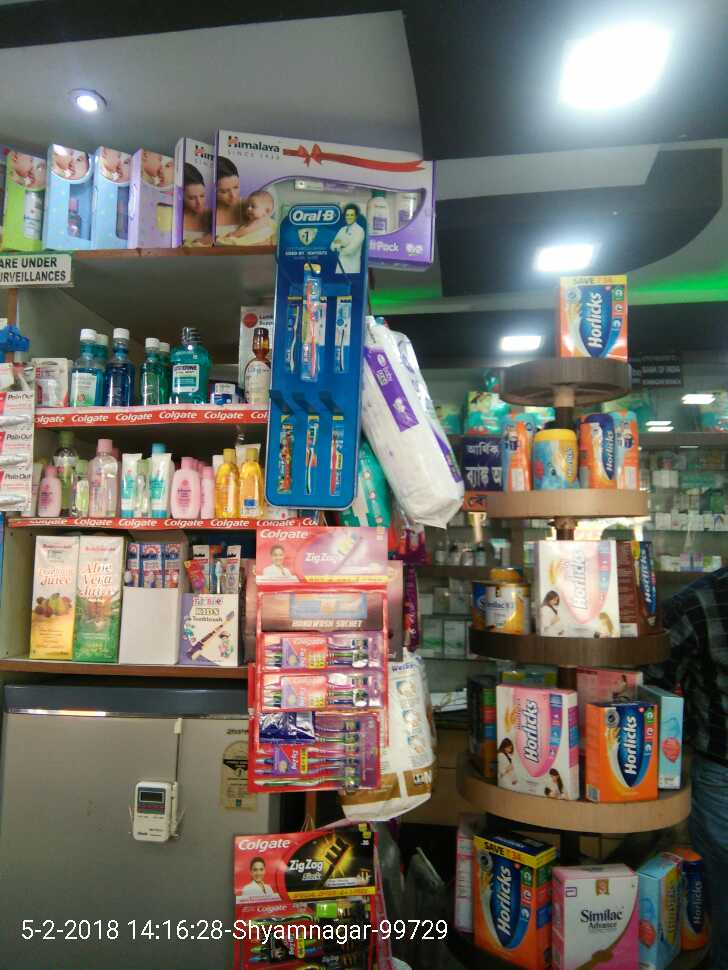oralb: (301, 260, 321, 384)
